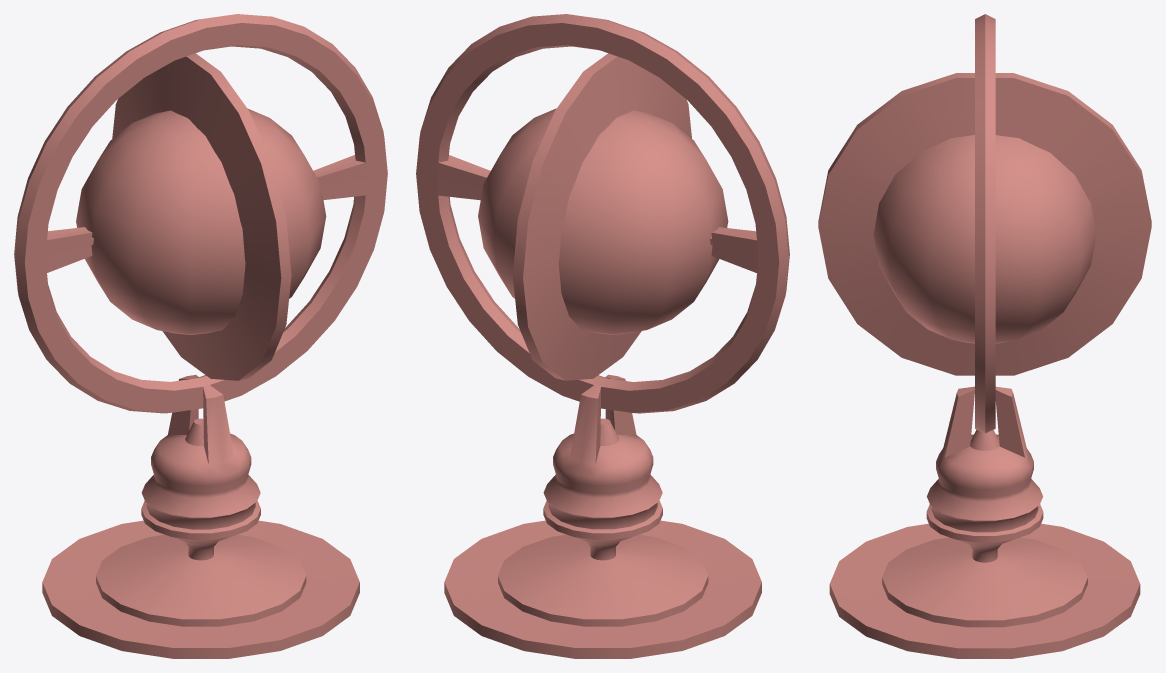
File: Desk Lamp 5.fbx
3 renders of one model, left to right at view 1: azimuth 30°, elevation 25°; view 2: azimuth 150°, elevation 25°; view 3: azimuth 270°, elevation 25°, orthographic. The views are drawn at different scales.
Visible parts, largest first — view 1: Cylinder; view 2: Cylinder; view 3: Cylinder.
Part boxes in pixels (x1,y1,x2,y2): Cylinder: (14,14,387,658); Cylinder: (416,14,789,658); Cylinder: (818,14,1151,658).
Size of the model in its own units: 82.44 by 121 by 65.47.
